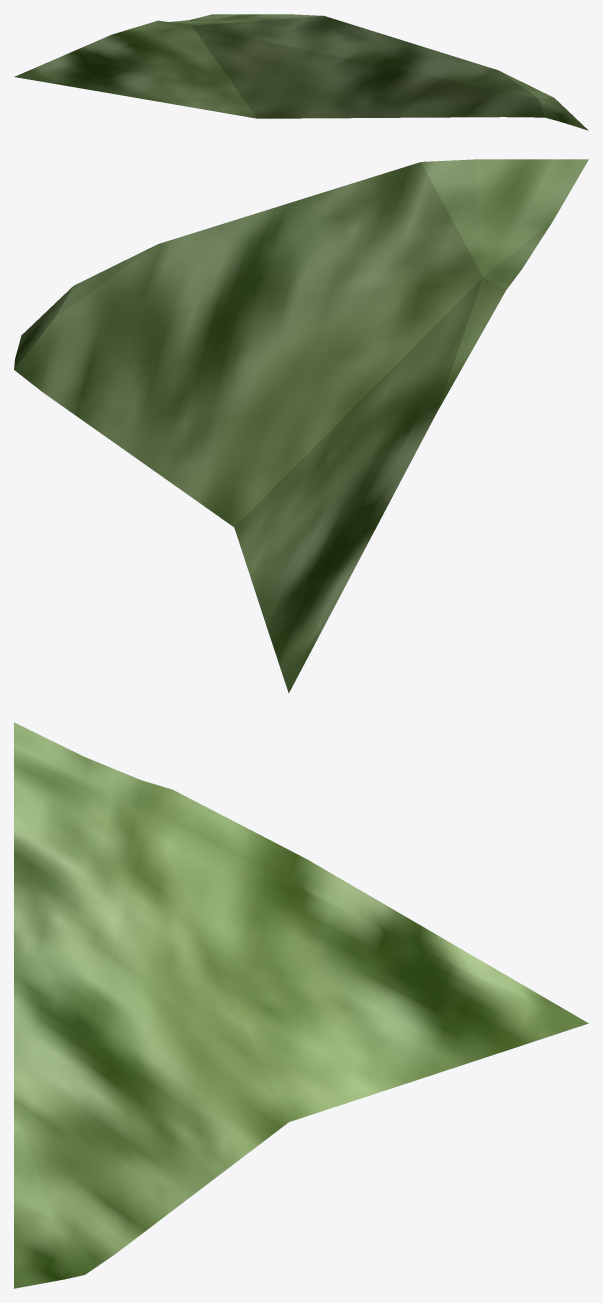
3 renders of one model, top to bottom at view 1: azimuth 30°, elevation 25°; view 2: azimuth 150°, elevation 25°; view 3: azimuth 270°, elevation 25°, orthographic. The views are drawn at different scales.
Bounding box in the file's own units: 0.4724 × 0.2502 × 0.4328.
1 material, 1 textured.
